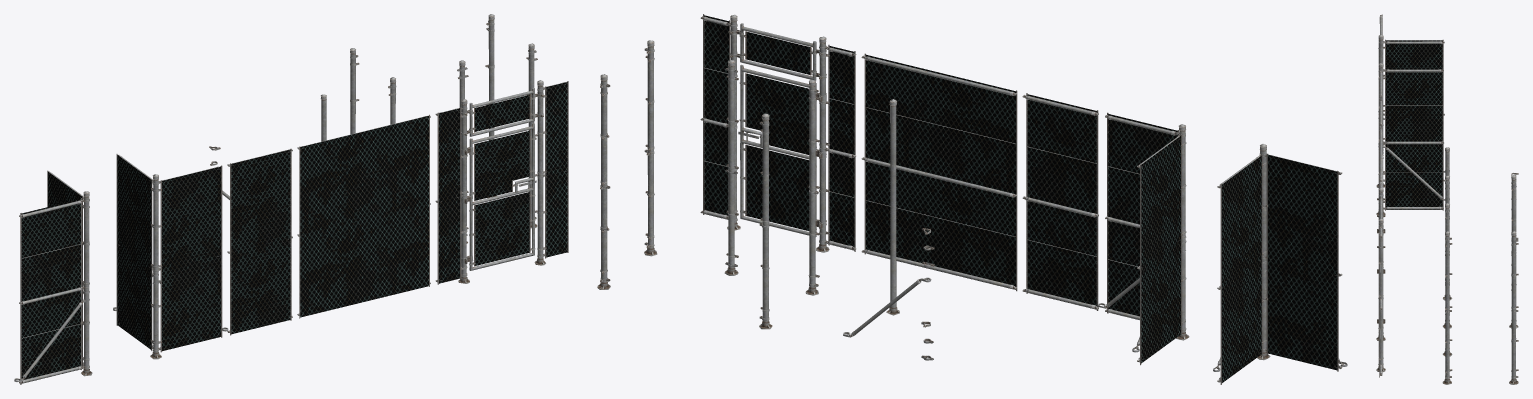
The model's file is modular_chainlink_fence.gltf.
The picture shows the model from 3 angles, left to right: view 1: azimuth 30°, elevation 25°; view 2: azimuth 150°, elevation 25°; view 3: azimuth 270°, elevation 25°; orthographic projection. The views are drawn at different scales.
Size of the model in its own units: 8.11 by 2.52 by 2.15.
2 materials, 2 textured.
